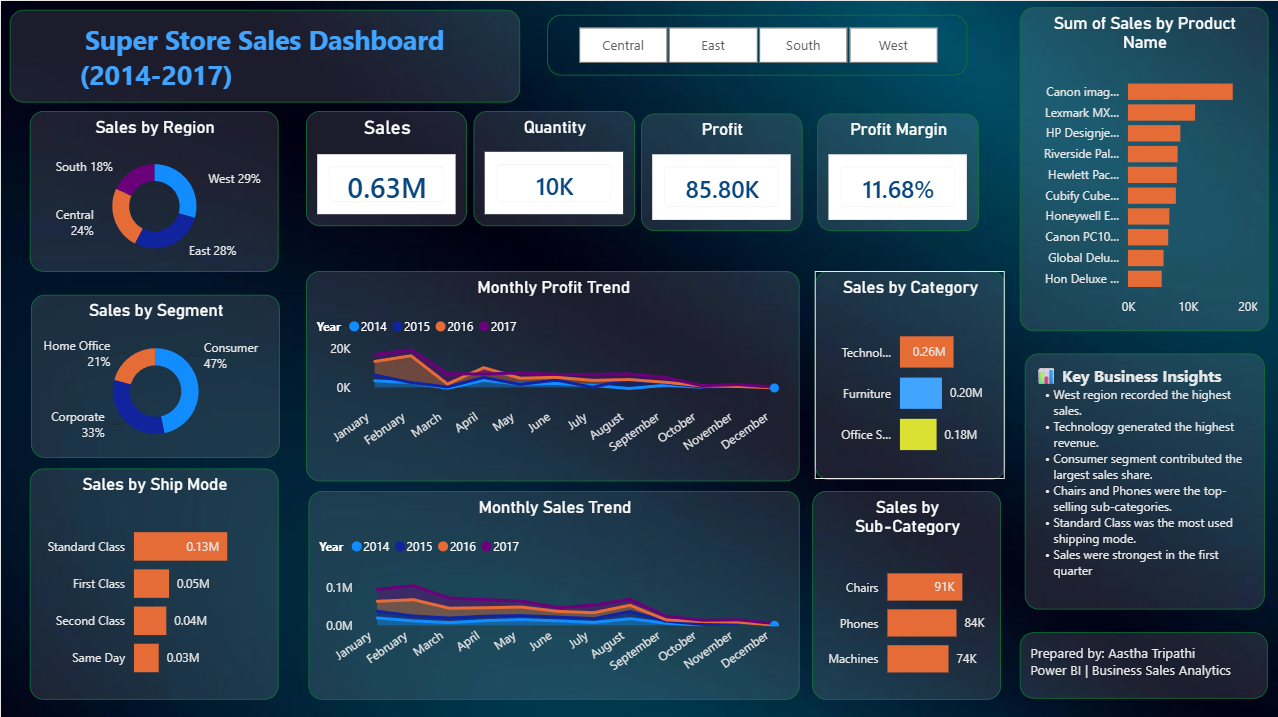

The dashboard page shown, as its layout file describes it:
{"tool":"powerbi","page":{"name":"Page 1","canvas":[1280,720],"ordinal":0},"visuals":[{"type":"clusteredBarChart","title":"Sales by Category","fields":{"Category":["Sample - Superstore.Category"],"Y":["Sum(Sample - Superstore.Sales)"]},"box":[813.8,270,190,208.8],"z":0},{"type":"clusteredBarChart","title":"Sales by Sub-Category","fields":{"Category":["Sample - Superstore.Sub-Category"],"Y":["Sum(Sample - Superstore.Sales)"]},"box":[811.2,490,188.8,208.8],"z":1000},{"type":"clusteredBarChart","title":"Sales by Ship Mode","fields":{"Category":["Sample - Superstore.Ship Mode"],"Y":["Sum(Sample - Superstore.Sales)"]},"box":[28.8,467.5,248.8,231.2],"z":2000},{"type":"stackedAreaChart","title":"Monthly Sales Trend","fields":{"Y":["Sum(Sample - Superstore.Sales)"],"Category":["Sample - Superstore.Order Date.Variation.Date Hierarchy.Month","Sample - Superstore.Order Date.Variation.Date Hierarchy.Day"],"Series":["Sample - Superstore.Order Date.Variation.Date Hierarchy.Year"]},"box":[307.5,490,491.2,208.8],"z":3000},{"type":"stackedAreaChart","title":"Monthly Profit Trend","fields":{"Category":["Sample - Superstore.Order Date.Variation.Date Hierarchy.Month","Sample - Superstore.Order Date.Variation.Date Hierarchy.Day"],"Series":["Sample - Superstore.Order Date.Variation.Date Hierarchy.Year"],"Y":["Sum(Sample - Superstore.Profit)"]},"box":[305,270,493.8,210],"z":4000},{"type":"donutChart","title":"Sales by Segment","fields":{"Category":["Sample - Superstore.Segment"],"Y":["Sum(Sample - Superstore.Sales)"]},"box":[30,293.8,248.9,163.3],"z":5000},{"type":"donutChart","title":"Sales by Region","fields":{"Category":["Sample - Superstore.Region"],"Y":["Sum(Sample - Superstore.Sales)"]},"box":[28.8,110,248.9,161.1],"z":6000},{"type":"slicer","fields":{"Values":["Sample - Superstore.Region"]},"box":[546.2,13.8,420,61.1],"z":7000},{"type":"textbox","box":[8.8,8.8,510,92.5],"z":8000},{"type":"cardVisual","title":"Sales","fields":{"Data":["Sum(Sample - Superstore.Sales)"]},"box":[305,110,161.1,115.6],"z":9000},{"type":"cardVisual","title":"Quantity","fields":{"Data":["Sum(Sample - Superstore.Quantity)"]},"box":[472.5,110,161.2,115],"z":10000},{"type":"cardVisual","title":"Profit","fields":{"Data":["Sum(Sample - Superstore.Profit)"]},"box":[640,112,161.2,117.5],"z":11000},{"type":"cardVisual","title":"Profit Margin","fields":{"Data":["Avg(Sample - Superstore.Profit Margin)"]},"box":[816,112,161.2,117.5],"z":12000},{"type":"barChart","fields":{"Category":["Sample - Superstore.Product Name"],"Y":["Sum(Sample - Superstore.Sales)"]},"box":[1018.6,5.7,248.8,323.8],"z":13000},{"type":"textbox","box":[1024,352,240,256],"z":14000},{"type":"textbox","box":[1018.3,631.7,248.3,66.7],"z":15000}]}

Visuals, with their boxes in screenshot pixels (x1, y1, x2, y2), scaled from the page's 1280x720 canvas onto the 1278x717 screenshot:
"Sales by Category" clusteredBarChart: rect(813, 269, 1002, 477)
"Sales by Sub-Category" clusteredBarChart: rect(810, 488, 998, 696)
"Sales by Ship Mode" clusteredBarChart: rect(29, 466, 277, 696)
"Monthly Sales Trend" stackedAreaChart: rect(307, 488, 797, 696)
"Monthly Profit Trend" stackedAreaChart: rect(305, 269, 798, 478)
"Sales by Segment" donutChart: rect(30, 293, 278, 455)
"Sales by Region" donutChart: rect(29, 110, 277, 270)
slicer - Sample - Superstore.Region: rect(545, 14, 965, 75)
textbox: rect(9, 9, 518, 101)
"Sales" cardVisual: rect(305, 110, 465, 225)
"Quantity" cardVisual: rect(472, 110, 633, 224)
"Profit" cardVisual: rect(639, 112, 800, 229)
"Profit Margin" cardVisual: rect(815, 112, 976, 229)
barChart - Sample - Superstore.Product Name x Sum(Sample - Superstore.Sales): rect(1017, 6, 1265, 328)
textbox: rect(1022, 351, 1262, 605)
textbox: rect(1017, 629, 1265, 695)
